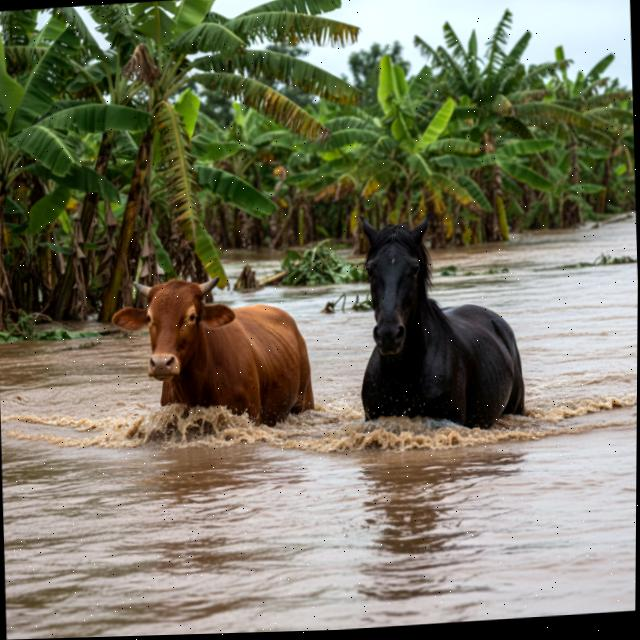cow: (109, 259, 329, 447)
horse: (346, 201, 544, 459)
